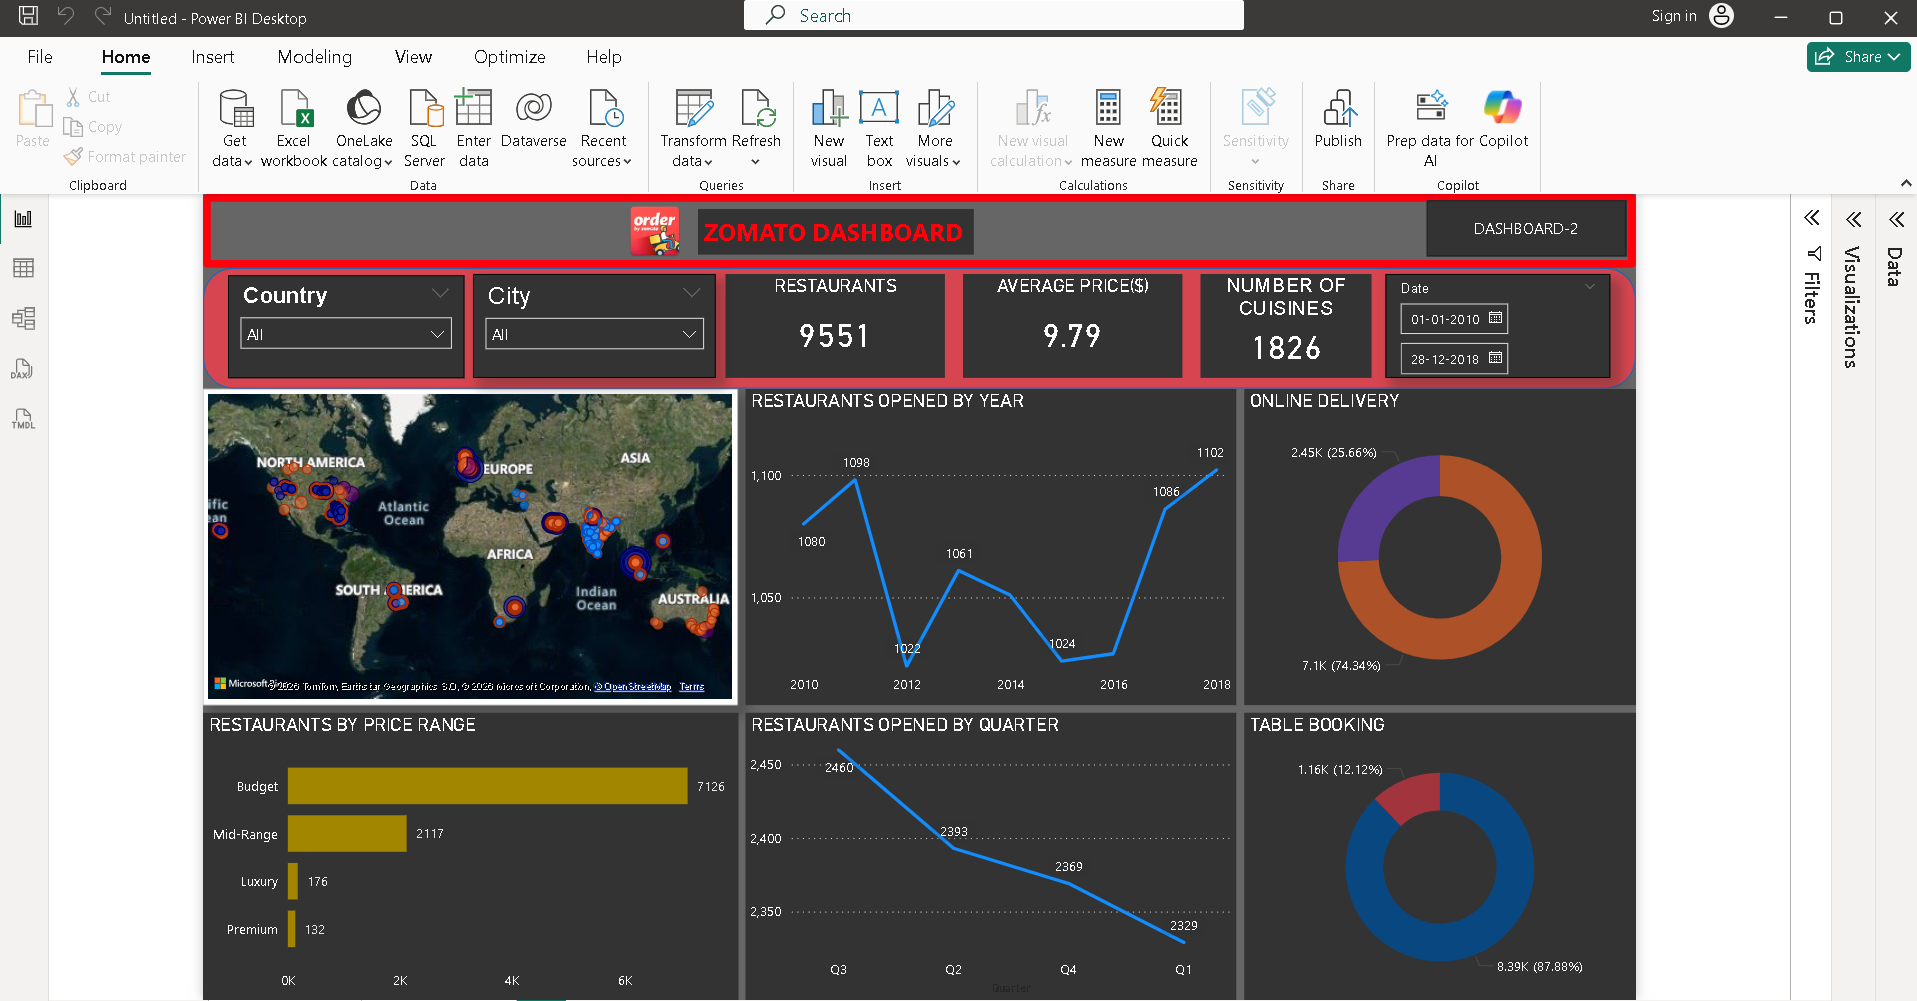

The dashboard page shown, as its layout file describes it:
{"tool":"powerbi","page":{"name":"DASHBOARD-1","canvas":[1280,720],"ordinal":0},"visuals":[{"type":"map","fields":{"X":["Main Table.Longitude"],"Y":["Main Table.Latitude"],"Series":["Main Table.Bucket"],"Size":["Avg(Main Table.Avg_Price($))"]},"box":[0,174.4,477.8,282.2],"z":0},{"type":"shape","box":[0,0,1280,66],"z":1000},{"type":"textbox","box":[442,13,246,41],"z":2000},{"type":"image","box":[365,6,77,54],"z":3000},{"type":"shape","box":[0,66,1280,108],"z":4000},{"type":"slicer","fields":{"Values":["Main Table.Countryname"]},"box":[22,73,211,92],"z":5000},{"type":"card","title":"RESTAURANTS","fields":{"Values":["CountNonNull(Main Table.RestaurantID)"]},"box":[467,72,196,93],"z":6000},{"type":"slicer","fields":{"Values":["Main Table.City"]},"box":[241,72,217,93],"z":7000},{"type":"card","title":"AVERAGE PRICE($)","fields":{"Values":["Avg(Main Table.Avg_Price($))"]},"box":[679,72,196,93],"z":8000},{"type":"card","title":"NUMBER OF CUISINES","fields":{"Values":["Count(Main Table.Cuisines)"]},"box":[891,72,153,93],"z":9000},{"type":"slicer","fields":{"Values":["Date.Date"]},"box":[1056,72,201,93],"z":10000},{"type":"lineChart","title":"RESTAURANTS OPENED BY YEAR","fields":{"Category":["Date.Date.Variation.Date Hierarchy.Year"],"Y":["CountNonNull(Main Table.RestaurantID)"]},"box":[485,174,438,282],"z":11000},{"type":"donutChart","title":"ONLINE DELIVERY","fields":{"Category":["Main Table.Has_Online_delivery"],"Y":["CountNonNull(Main Table.RestaurantID)"]},"box":[930,174,350,282],"z":12000},{"type":"donutChart","title":"TABLE BOOKING","fields":{"Category":["Main Table.Has_Table_booking"],"Y":["CountNonNull(Main Table.RestaurantID)"]},"box":[930,463,350,257],"z":13000},{"type":"lineChart","title":"RESTAURANTS OPENED BY QUARTER","fields":{"Category":["Date.Quarter"],"Y":["CountNonNull(Main Table.RestaurantID)"]},"box":[485,463,438,257],"z":14000},{"type":"barChart","title":"RESTAURANTS BY PRICE RANGE","fields":{"Category":["Main Table.Bucket"],"Y":["CountNonNull(Main Table.RestaurantID)"]},"box":[0,463,478,257],"z":15000},{"type":"pageNavigator","box":[1093.3,5.6,178.9,50],"z":16000}]}

Visuals, with their boxes on the page's 1280x720 design canvas (x1, y1, x2, y2). These are canvas units, not pixel positions in the 1917x1001 screenshot, which may show the page scaled, cropped or inside an application window:
map - Main Table.Longitude x Main Table.Latitude: 0:174:478:457
shape: 0:0:1280:66
textbox: 442:13:688:54
image: 365:6:442:60
shape: 0:66:1280:174
slicer - Main Table.Countryname: 22:73:233:165
"RESTAURANTS" card: 467:72:663:165
slicer - Main Table.City: 241:72:458:165
"AVERAGE PRICE($)" card: 679:72:875:165
"NUMBER OF CUISINES" card: 891:72:1044:165
slicer - Date.Date: 1056:72:1257:165
"RESTAURANTS OPENED BY YEAR" lineChart: 485:174:923:456
"ONLINE DELIVERY" donutChart: 930:174:1280:456
"TABLE BOOKING" donutChart: 930:463:1280:720
"RESTAURANTS OPENED BY QUARTER" lineChart: 485:463:923:720
"RESTAURANTS BY PRICE RANGE" barChart: 0:463:478:720
pageNavigator: 1093:6:1272:56
